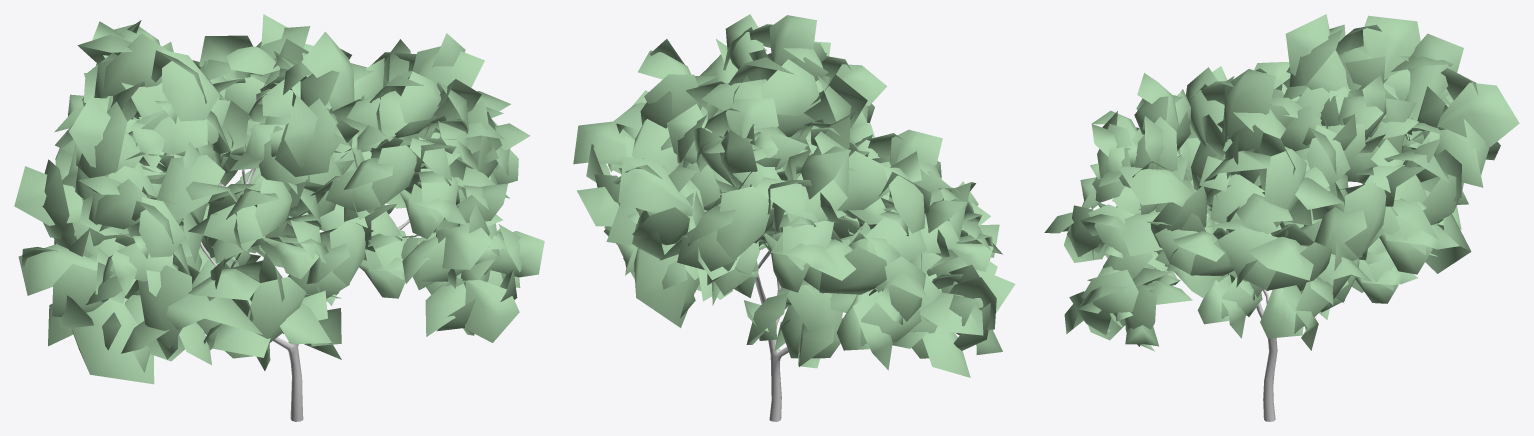
The model's file is Tree_03.FBX.
3 views of the same model, side by side, from view 1: azimuth 30°, elevation 25°; view 2: azimuth 150°, elevation 25°; view 3: azimuth 270°, elevation 25° (orthographic). The views are drawn at different scales.
Parts seen in each view (by area): view 1: tree001; view 2: tree001; view 3: tree001.
Boxes of the visible parts, box(x1,y1,x2,y2) form: tree001: box(14, 14, 544, 421); tree001: box(573, 14, 1015, 421); tree001: box(1044, 14, 1519, 421).
Bounding box in the file's own units: 4.23 × 3.32 × 4.
